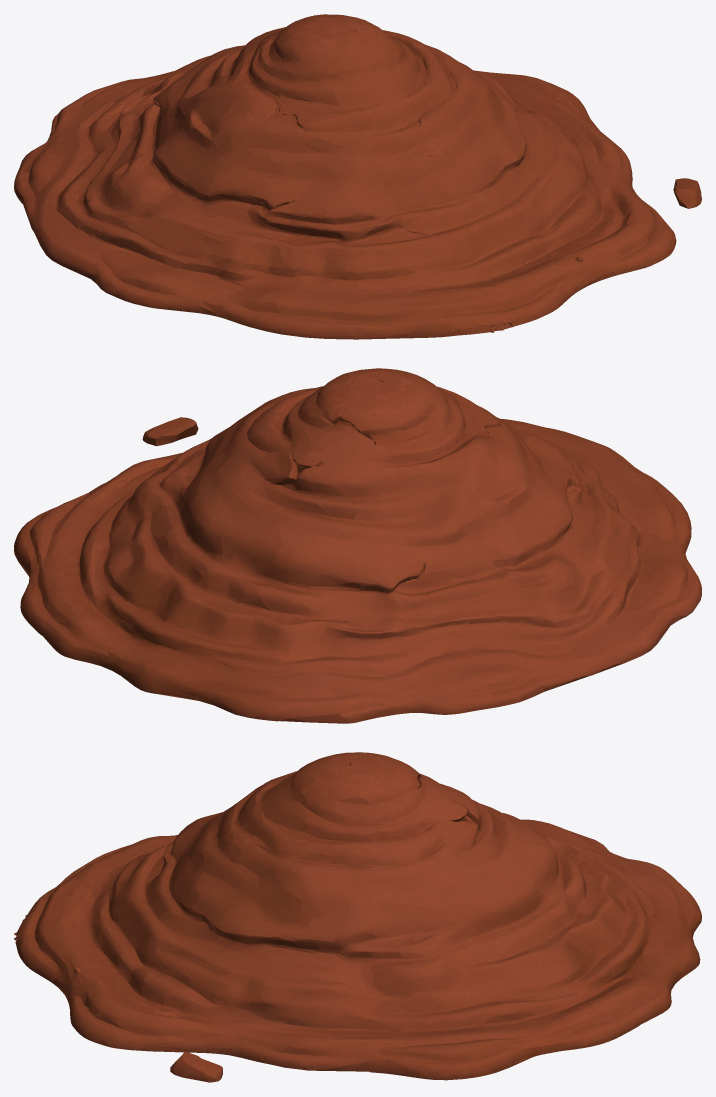
File: resource-clay-final.glb
The picture shows the model from 3 angles, top to bottom: view 1: azimuth 30°, elevation 25°; view 2: azimuth 150°, elevation 25°; view 3: azimuth 270°, elevation 25°; orthographic projection. The views are drawn at different scales.
Size of the model in its own units: 0.1671 by 0.05 by 0.1774.
1 material, 1 textured.
